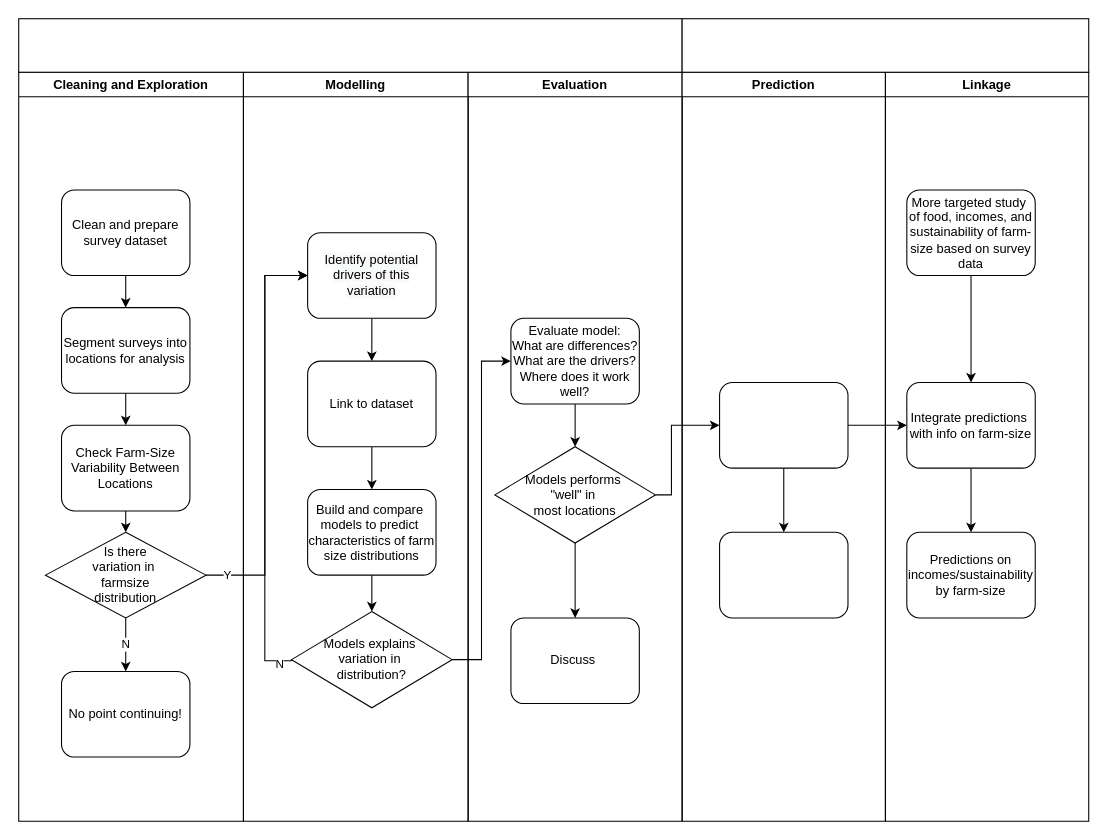
The diagram is 1107 pixels wide and 840 high, and some of its shapes have lost their labels. The shapes that lost their labels are listed below. From the top down, each one's centre as x and y in pixels, then its label:
point (350, 45): This Study
point (885, 45): Future Work
point (783, 424): Generate Predictions outside of the dataset
point (783, 574): Describe predictions, map of which size farms exist where...
